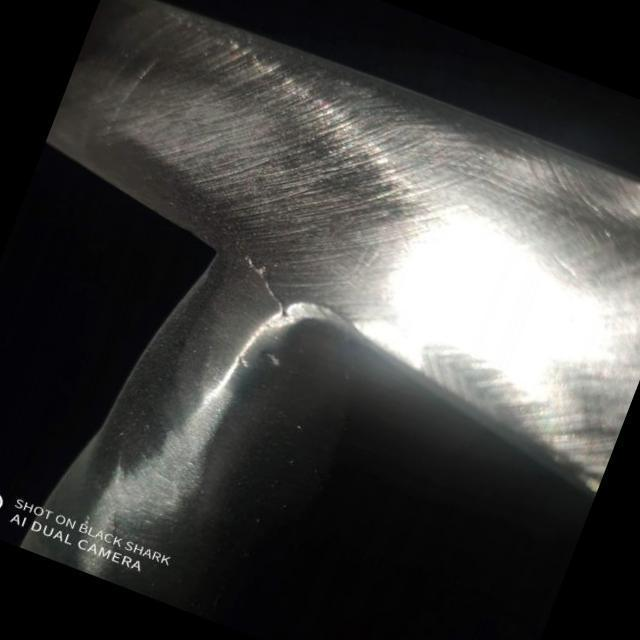defect: (244, 257, 291, 322)
